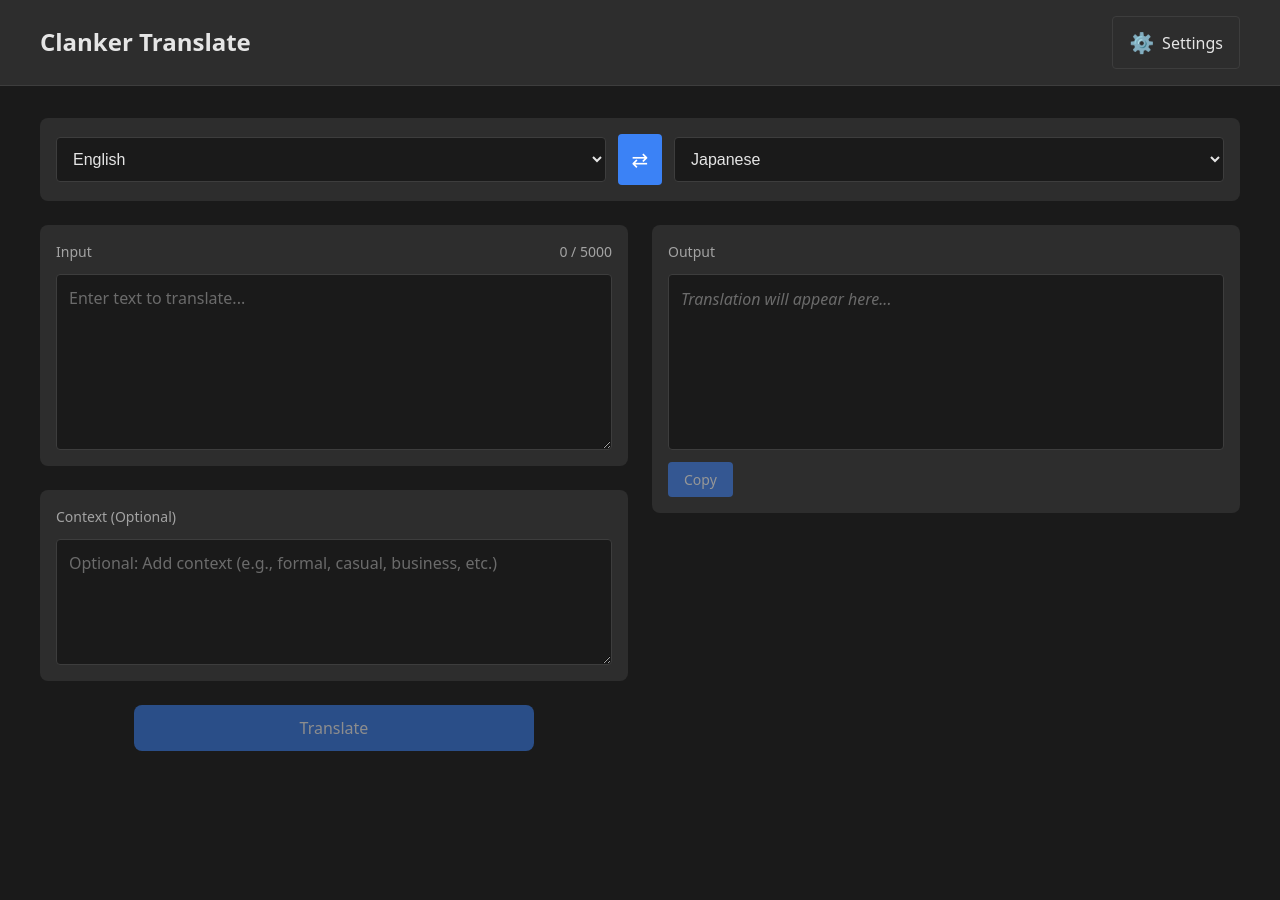
Visual Feedback Tests › Loading spinner animation › should render loading spinner when translating
The width and height of the screenshot is (1280, 900).
Type "Hello" into the text box named "Input text" at (334, 362), box [56, 274, 612, 450]
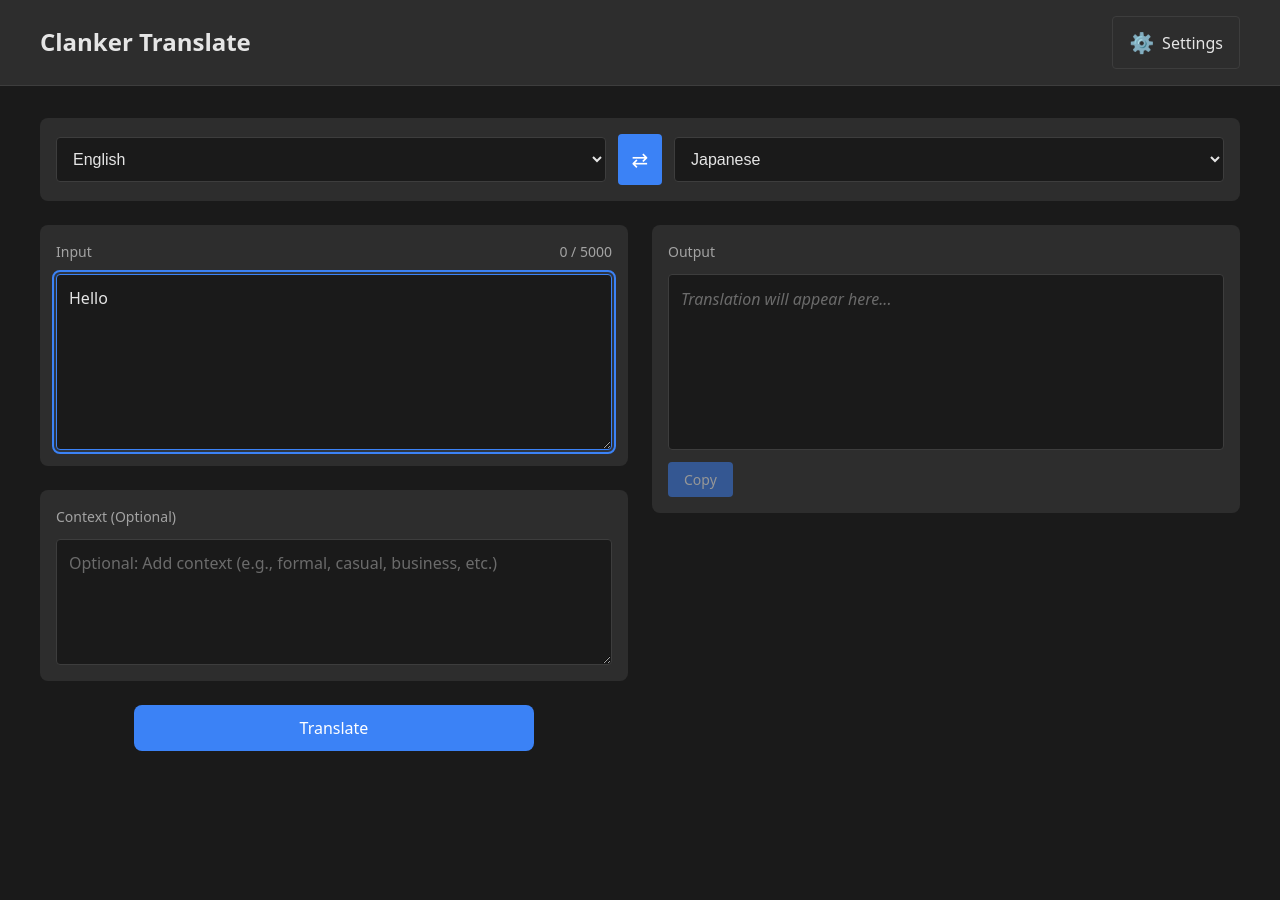
Click the button "Translate" at (334, 728), box [134, 705, 534, 751]
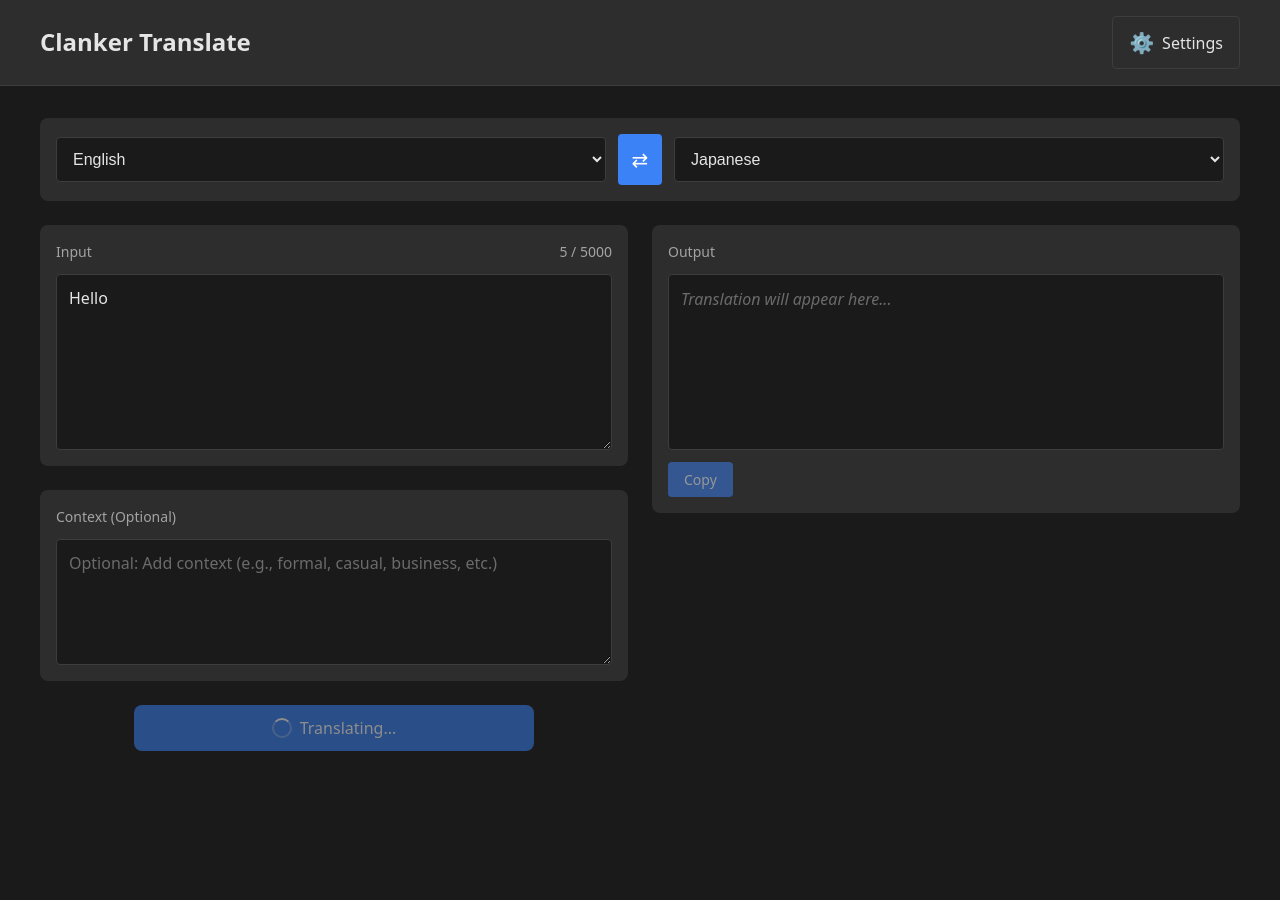
Check: the button "Translating..." is shown, box [272, 717, 396, 739]
Check: the button with aria-label "translate" reads "Translating...", box [134, 705, 534, 751]
